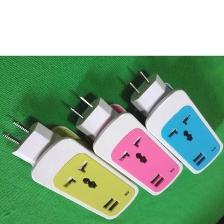three_eye_plug: (0, 113, 144, 222), (64, 92, 185, 198), (123, 65, 223, 177)
